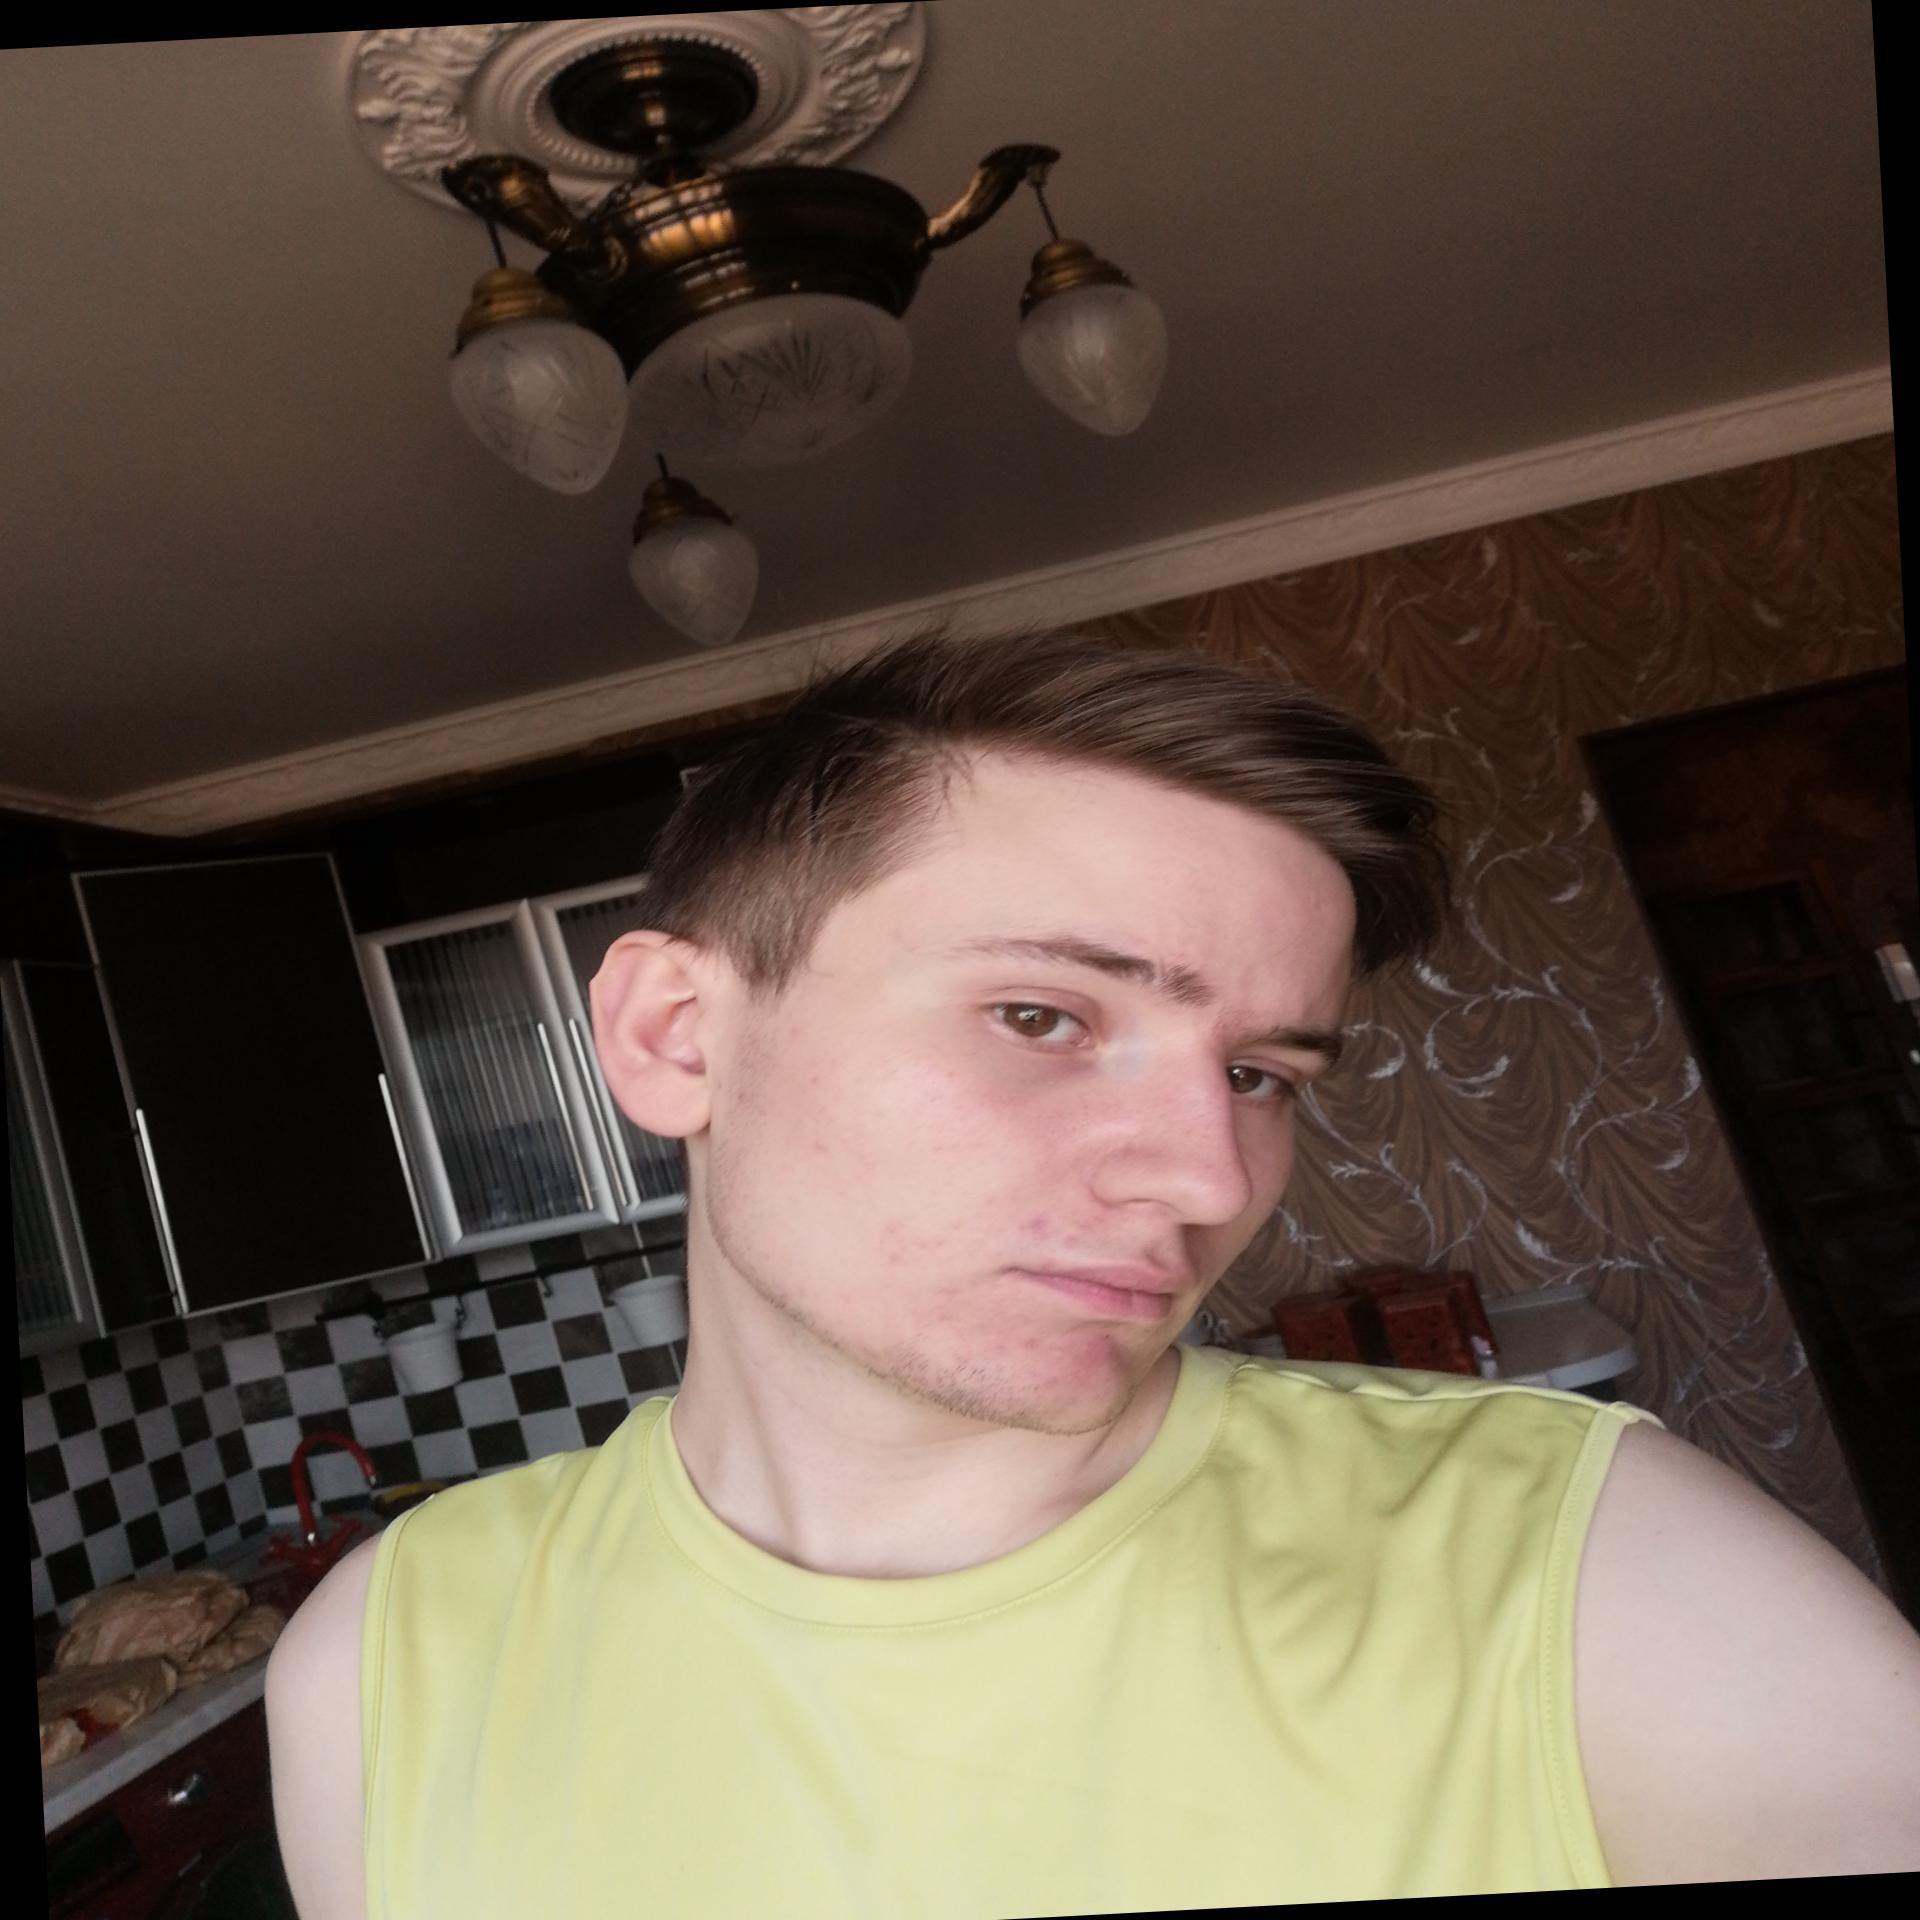Acne: (1058, 1211, 1109, 1250), (1016, 1210, 1053, 1236), (798, 1067, 832, 1094), (874, 1245, 907, 1269), (879, 1220, 905, 1245), (1020, 1333, 1046, 1350), (886, 921, 905, 944), (784, 1023, 805, 1043), (1034, 1257, 1057, 1273), (809, 1141, 830, 1157), (986, 1342, 1004, 1354)
Englarged Pores: (972, 1088, 1116, 1157), (1167, 1074, 1220, 1171)
